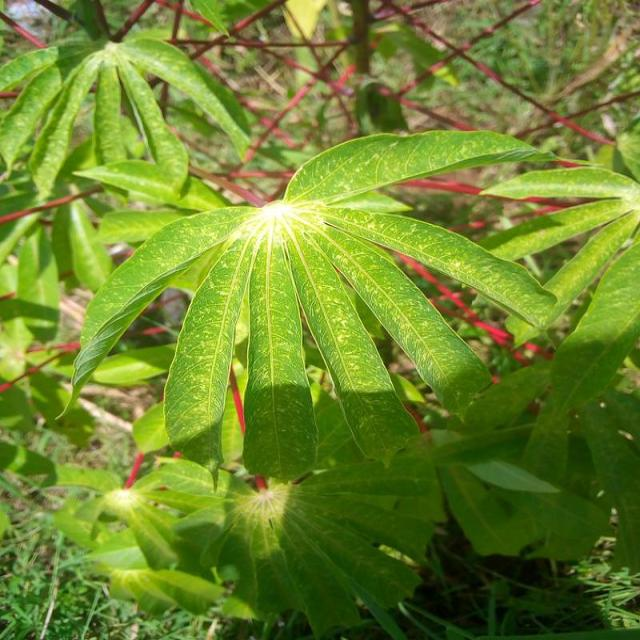cassava leaf: (62, 126, 562, 487)
